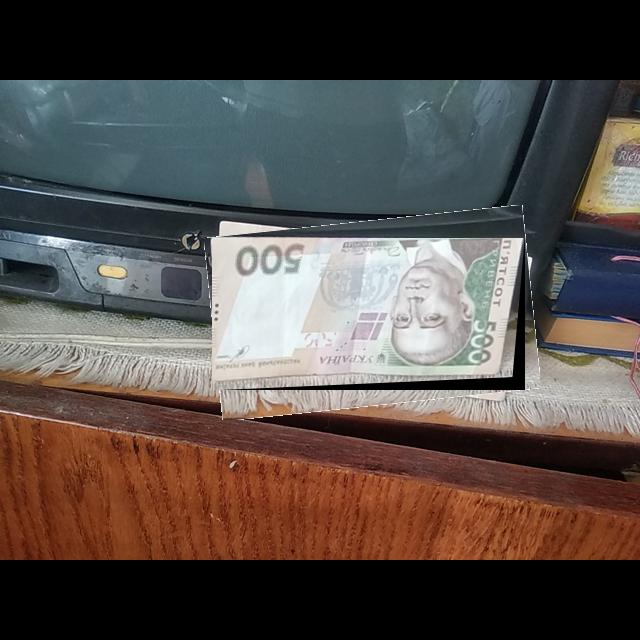500uah: (212, 238, 525, 382)
